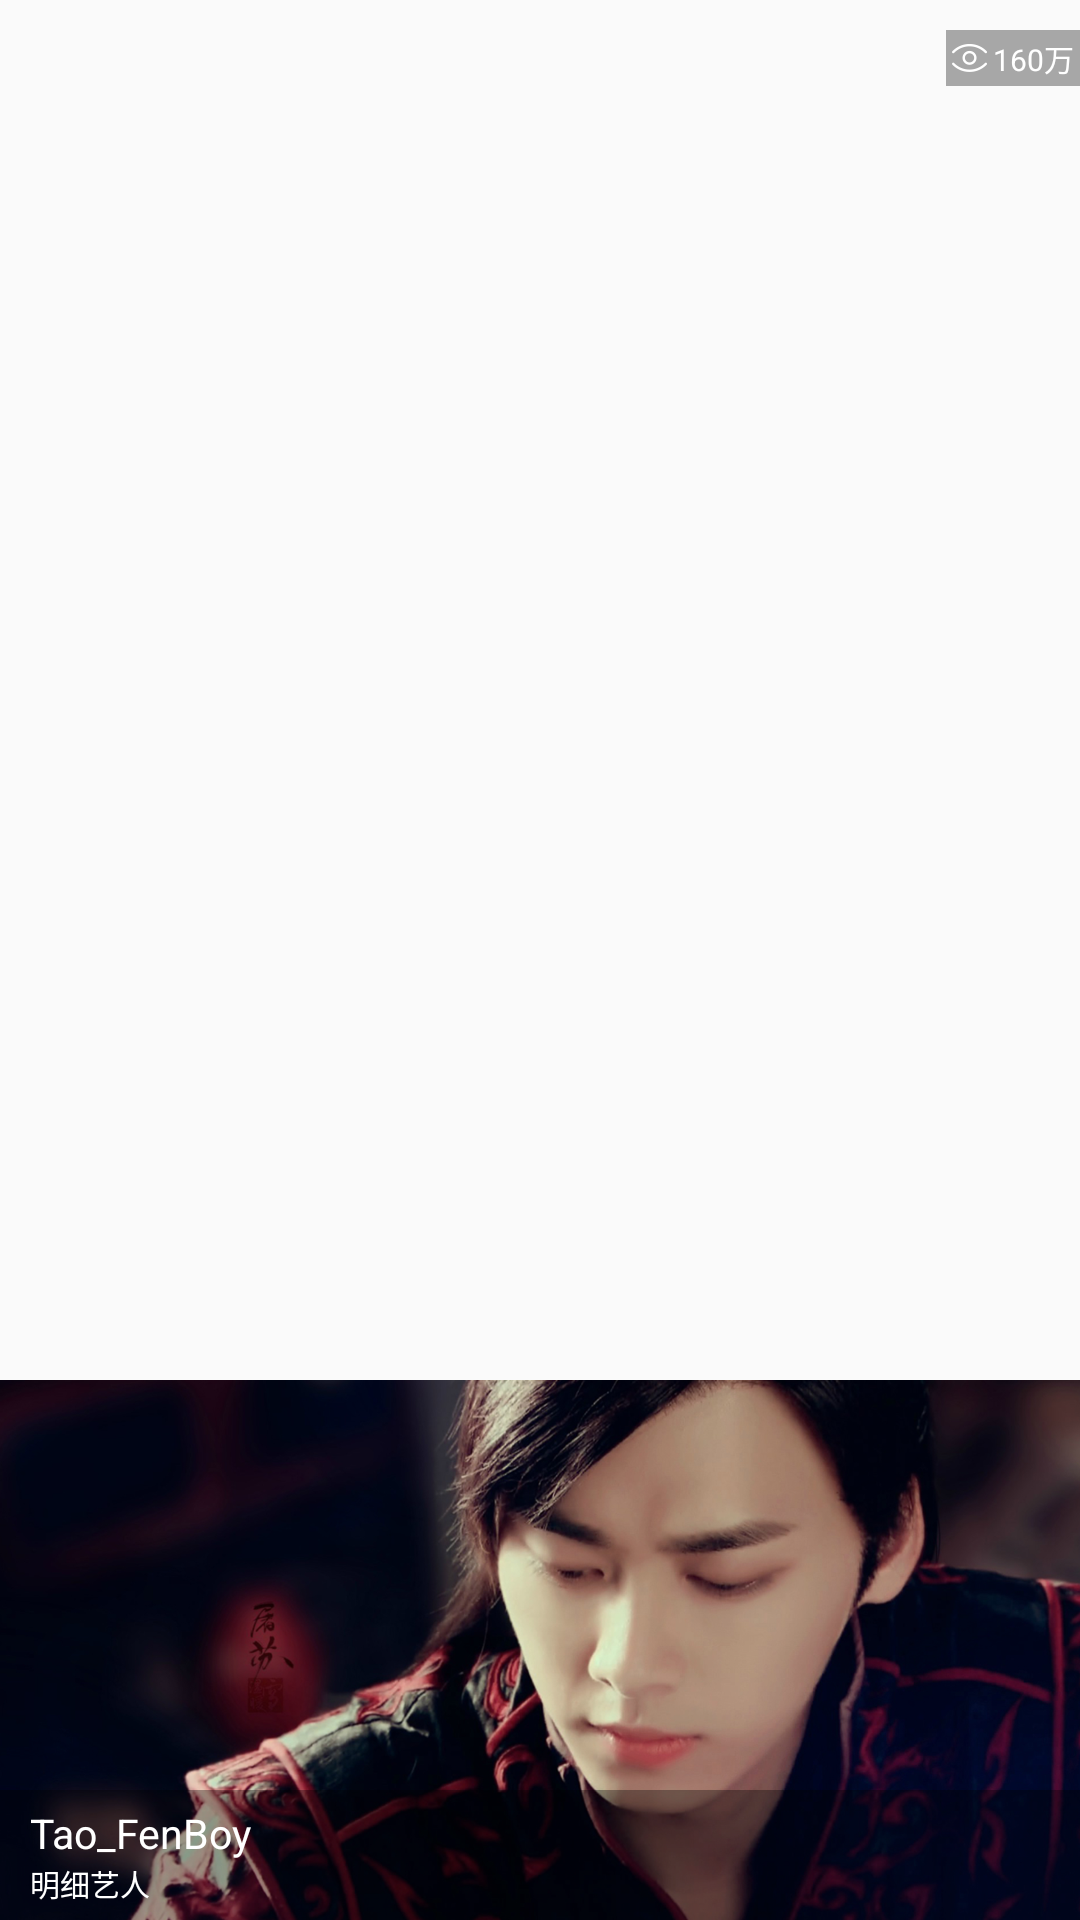

Point at icon controls on the screen. Image size 1080*1920, points as point (x, y).
home eye: point (969, 58)
